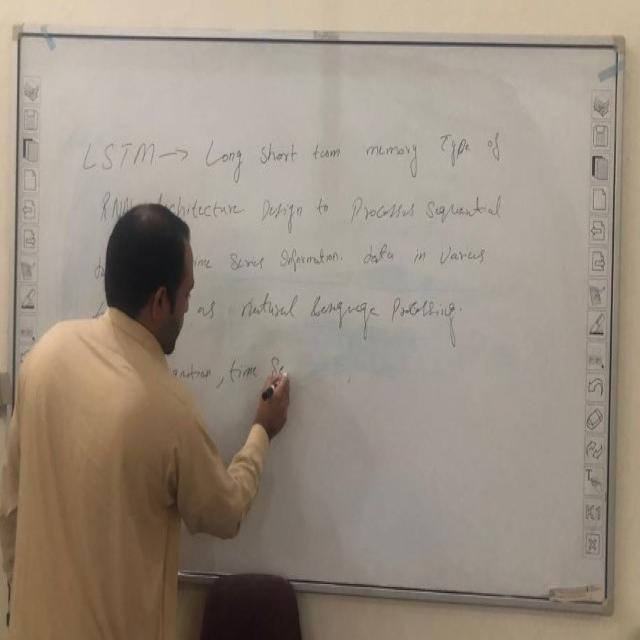Instructor: (33, 182, 212, 624)
White-board: (11, 31, 621, 606)
